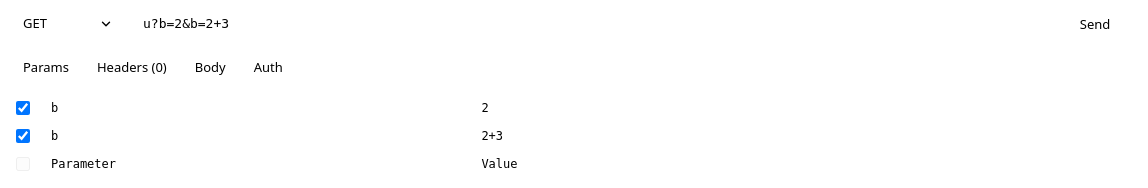
Test case: RequestPane › encodes a param typed to equal a later one, which keeps its raw text
Type "+3" into the field named "Value 1" at (790, 108), box x1=473 y1=96 x2=1107 y2=120
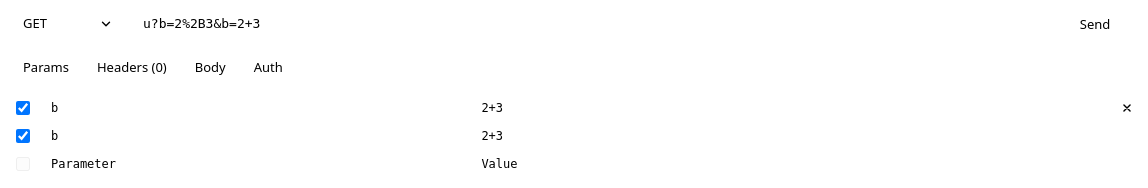
Expected: the text box labelled "u?b=2%2B3&b=2+3" is shown, x1=143 y1=16 x2=260 y2=31
